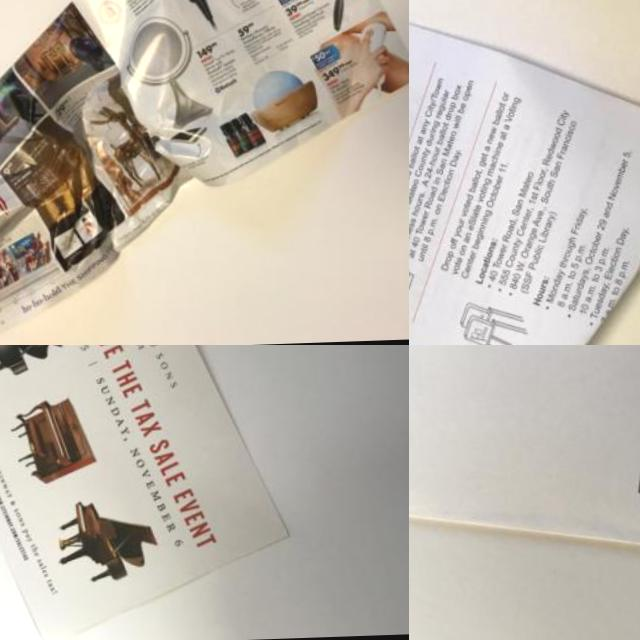papel: (0, 0, 409, 332), (0, 345, 287, 640), (409, 0, 640, 345), (409, 345, 640, 594)
